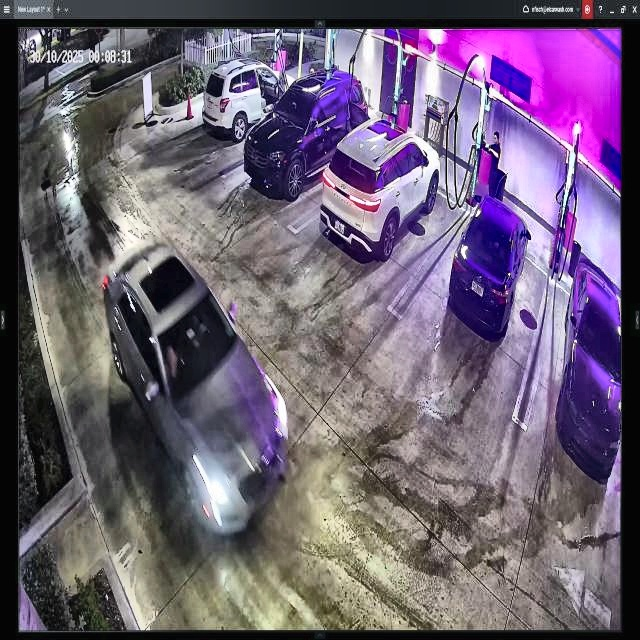Car: (97, 238, 285, 530), (317, 119, 439, 257), (242, 72, 366, 198), (450, 198, 528, 342)
